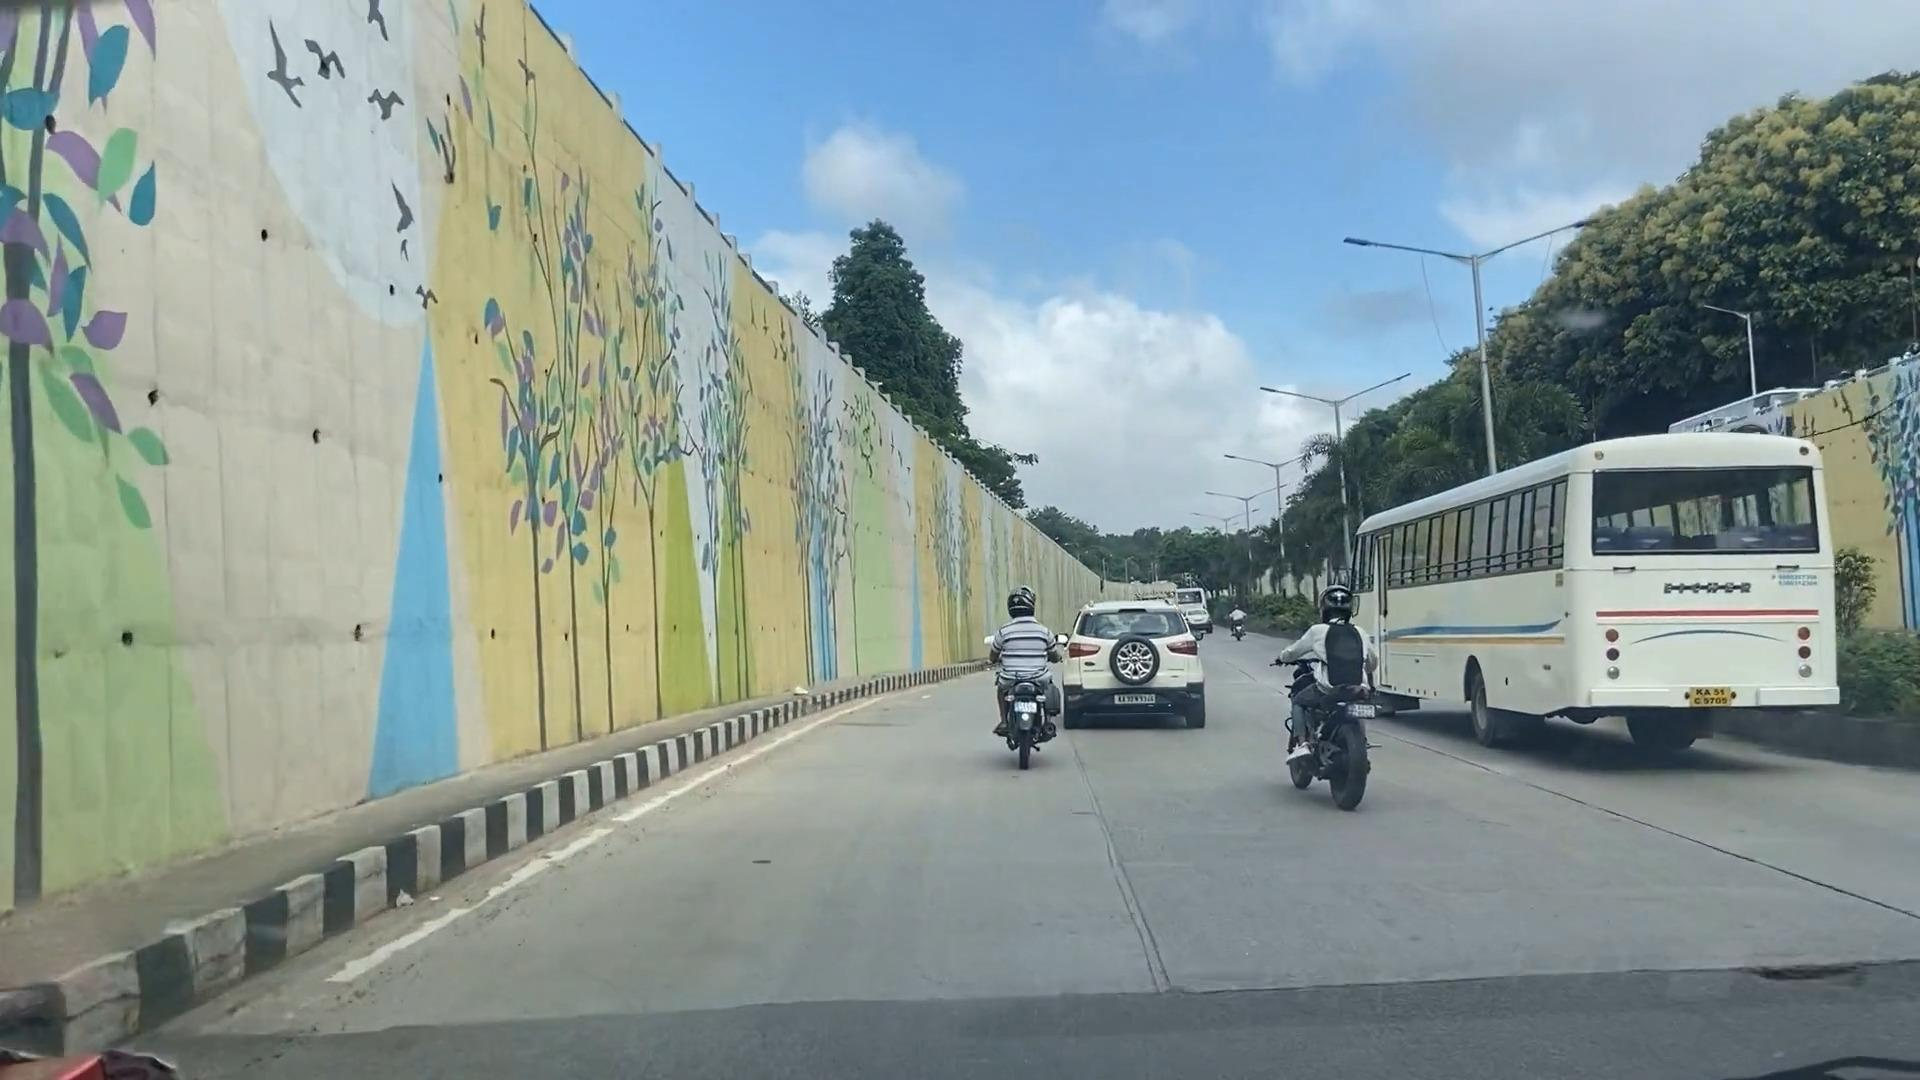HMV: (1352, 454, 1836, 742)
LMV: (1278, 588, 1381, 806), (963, 600, 1062, 765), (1075, 600, 1199, 727)
RoadDamages: (1730, 930, 1920, 1080)
